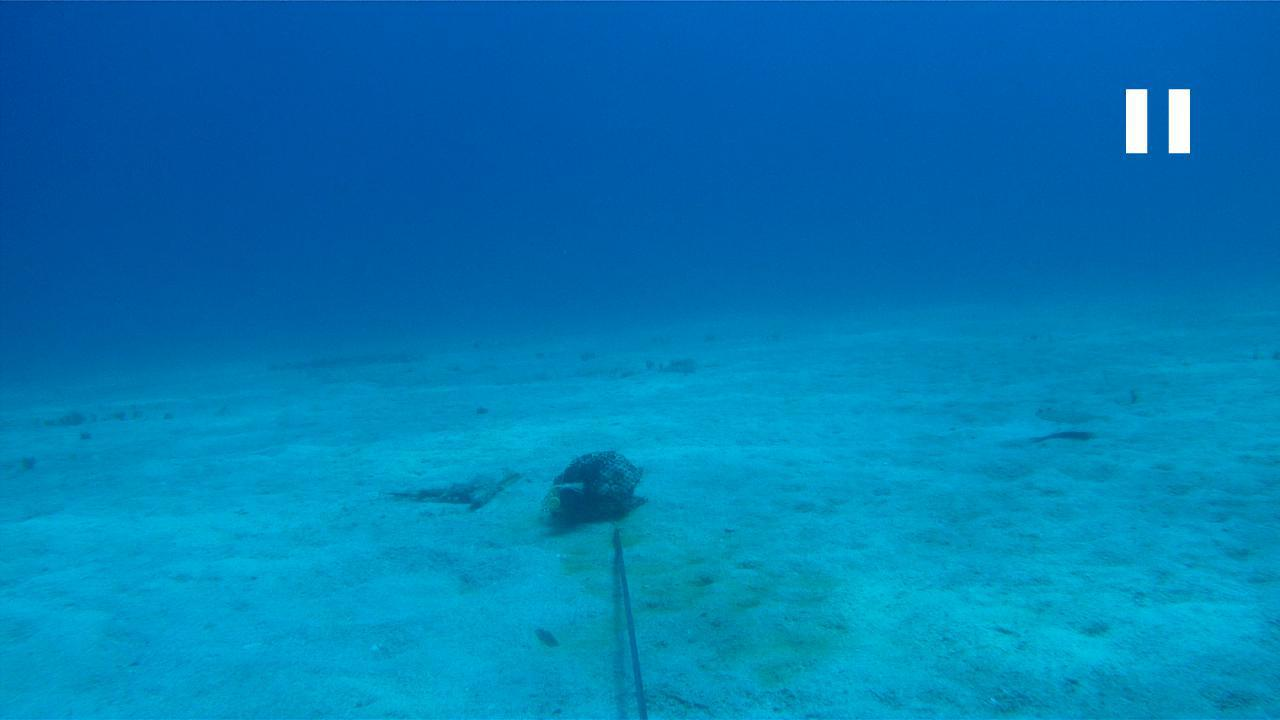bothus: (1030, 404, 1112, 427)
